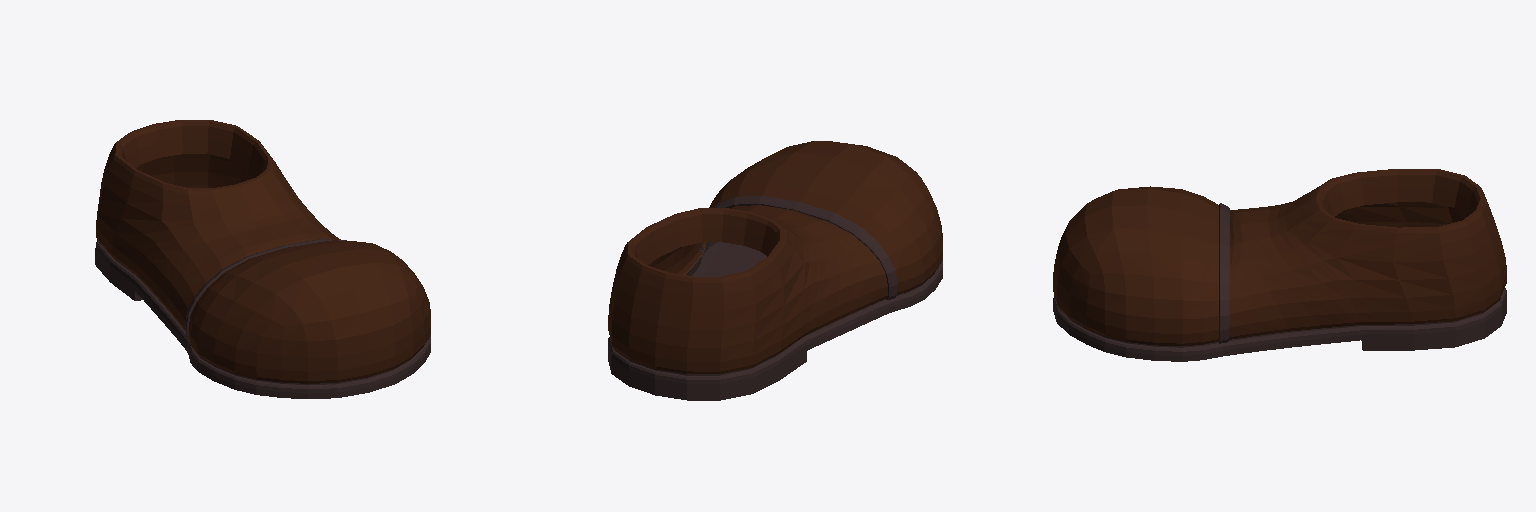
The model's file is left_foot.obj.
3 views of the same model, side by side, from view 1: azimuth 30°, elevation 25°; view 2: azimuth 150°, elevation 25°; view 3: azimuth 270°, elevation 25° (orthographic).
Parts seen in each view (by area): view 1: Popeye:PopeyeGeoshoe_rgt; view 2: Popeye:PopeyeGeoshoe_rgt; view 3: Popeye:PopeyeGeoshoe_rgt.
Boxes of the visible parts, x1,y1,x2,y2 form: Popeye:PopeyeGeoshoe_rgt: [95, 120, 430, 398]; Popeye:PopeyeGeoshoe_rgt: [608, 141, 942, 400]; Popeye:PopeyeGeoshoe_rgt: [1053, 169, 1506, 361].
Size of the model in its own units: 0.9507 by 0.4836 by 1.74.